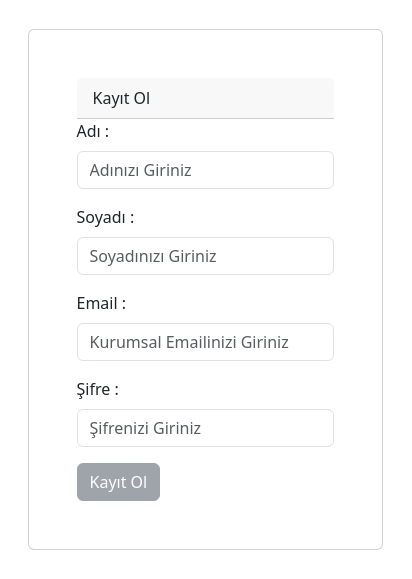
Test: Register Page › Error Messages › Name input throws error for 2 chars
The width and height of the screenshot is (412, 579).
In the field with test id "ad-input": (206,170) 77,151 -> 334,189, type "il"
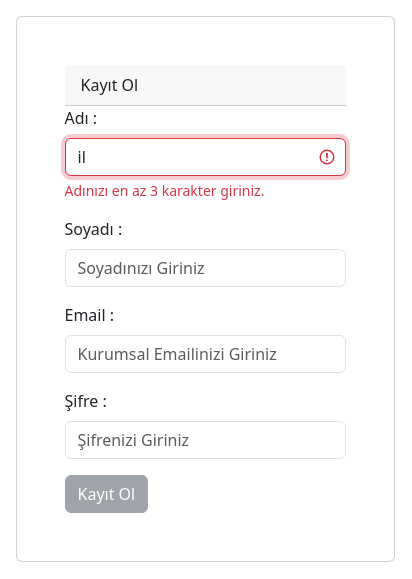
Expected: the text "Adınızı en az 3 karakter giriniz." is shown, 64,181 -> 264,200
